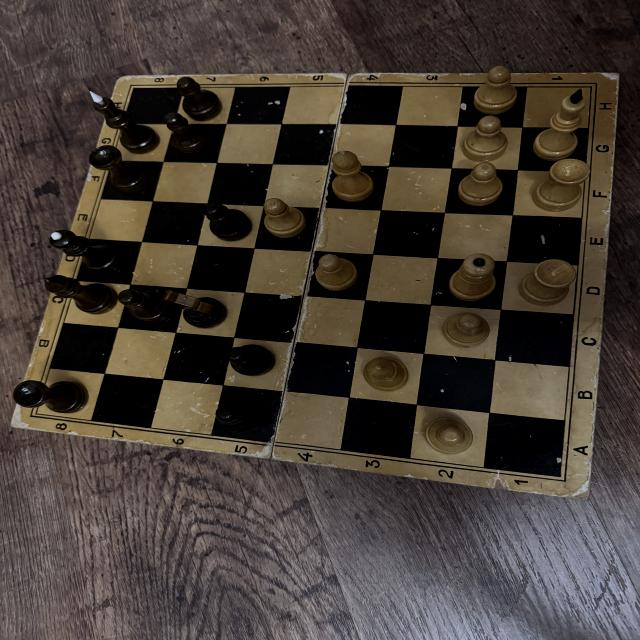black-bishop: (40, 274, 116, 316)
black-king: (85, 91, 160, 154)
black-knight: (163, 291, 225, 329)
black-pawn: (176, 76, 223, 122), (164, 113, 215, 155), (117, 287, 171, 323), (204, 202, 252, 242), (226, 342, 275, 376), (215, 398, 263, 432)
black-queen: (48, 229, 128, 275)
black-rook: (86, 144, 154, 195), (10, 376, 89, 414)
white-bishop: (328, 148, 377, 204), (361, 355, 410, 392)
white-king: (530, 87, 586, 162)
white-pawn: (474, 65, 517, 115), (461, 116, 507, 162), (456, 162, 502, 205), (424, 417, 473, 455), (261, 198, 307, 238), (442, 312, 490, 348), (315, 254, 358, 291)
white-queen: (445, 252, 501, 304)
white-rook: (533, 160, 590, 213), (517, 260, 577, 308)
